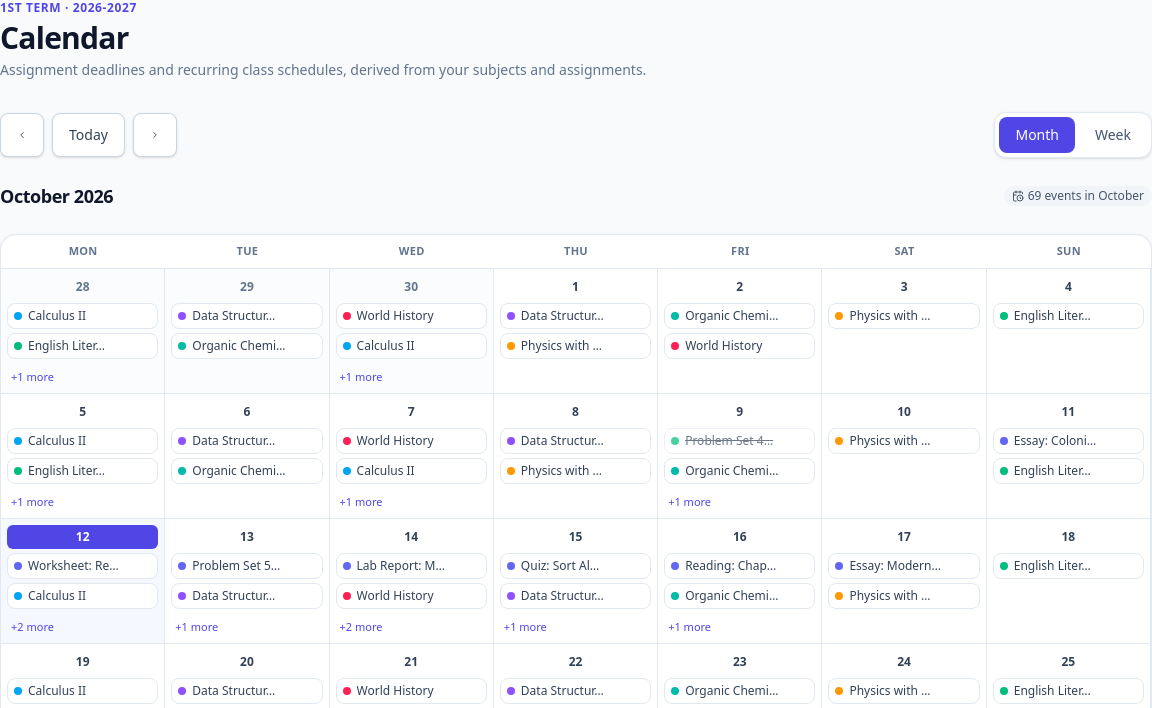
calendar page views › switches between month and week views
Expected: the button named "View events for" is shown, [7, 274, 158, 298]
Step 1. Click the radio button labelled "week" → {"x": 1113, "y": 135}, box [1079, 117, 1147, 153]
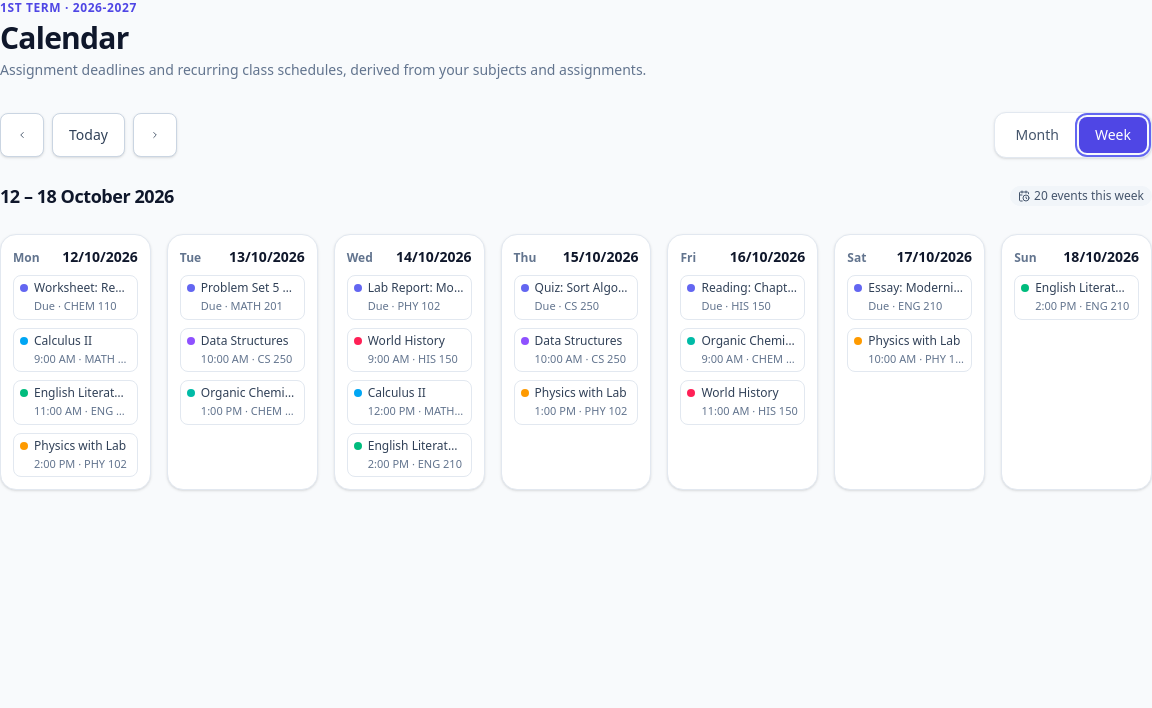
Now the radio button labelled "week" is checked, box [1079, 117, 1147, 153]
Step 2. Click the radio button labelled "month" → {"x": 1037, "y": 135}, box [1000, 117, 1075, 153]
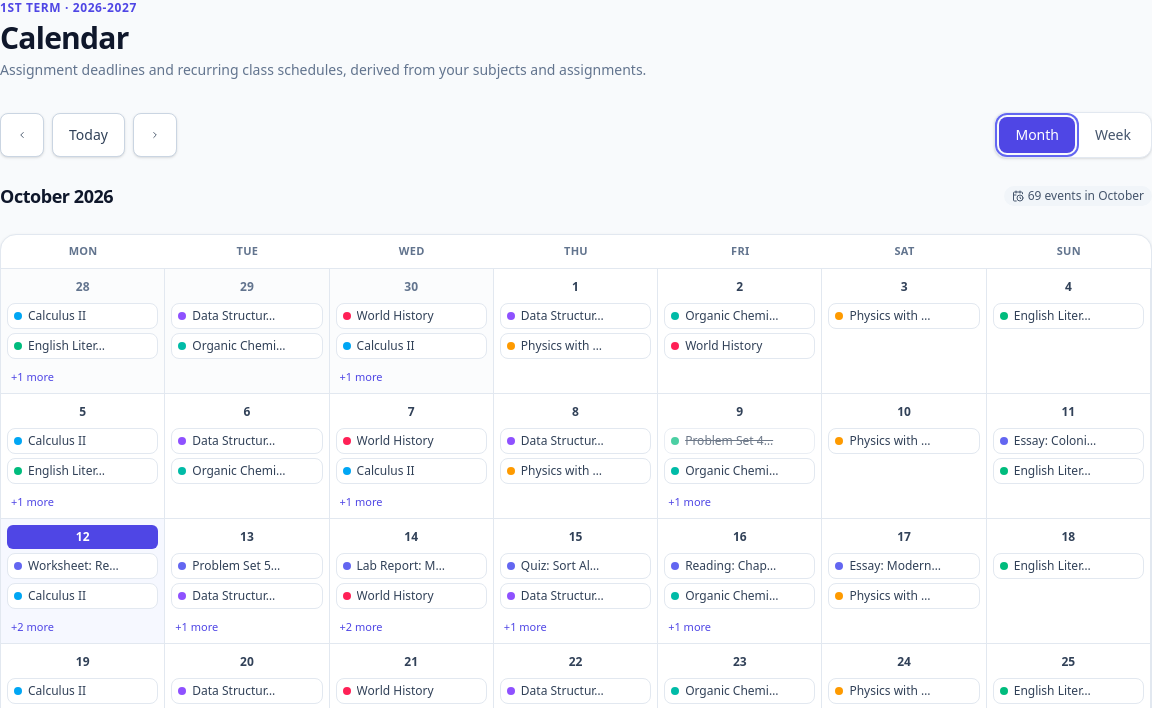
Now the button named "View events for" is shown, box [7, 274, 158, 298]
